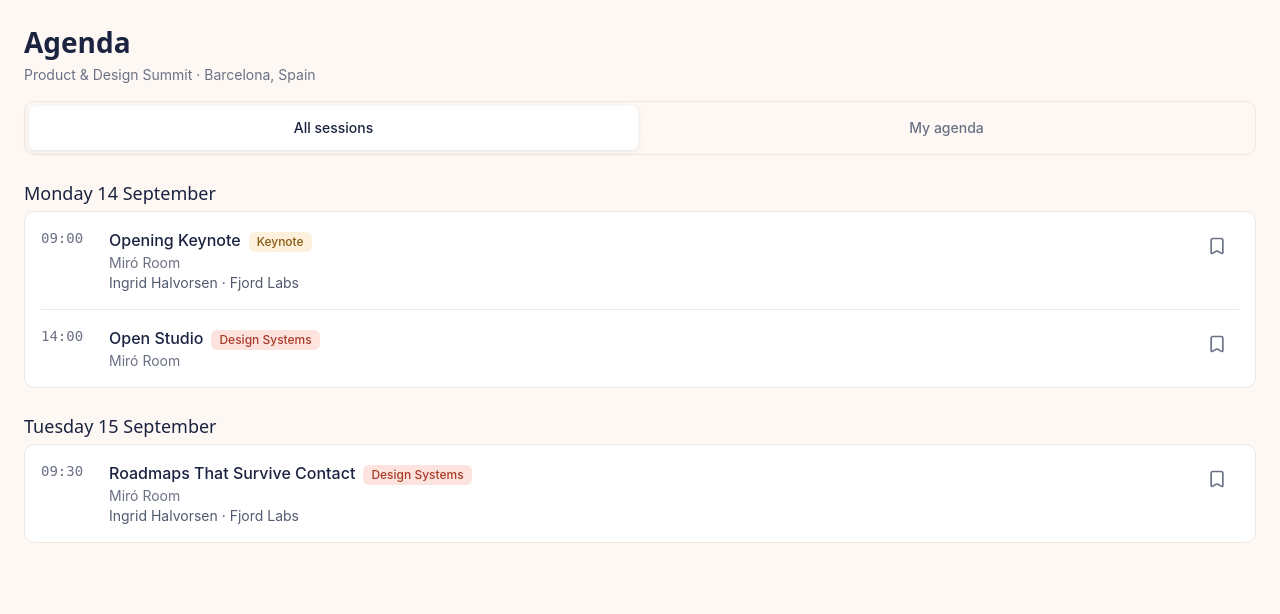
Test: a failed note write › LEAVES THE TEXT ON SCREEN (FR-211)
Click the link "Opening Keynote" at (175, 240), box [109,230,241,250]
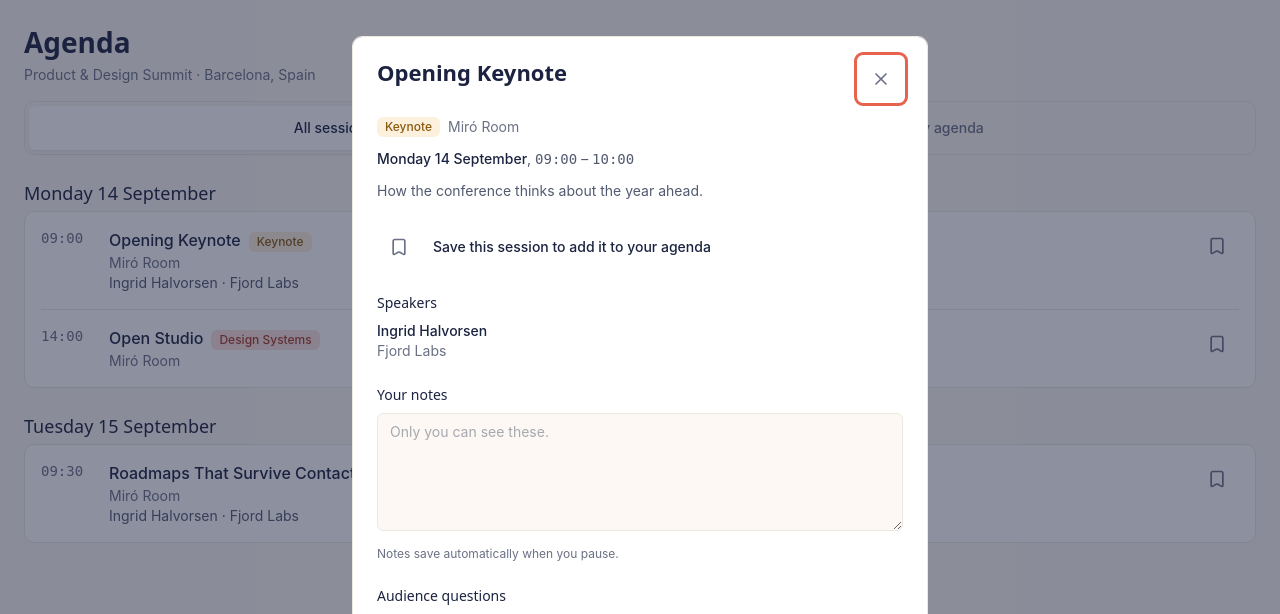
Now the heading "Opening Keynote" is shown, box [377,57,567,88]
Type "Something worth keeping." into the text box named "private notes" at (640, 472), box [377,413,903,531]
Wait 1300 ms
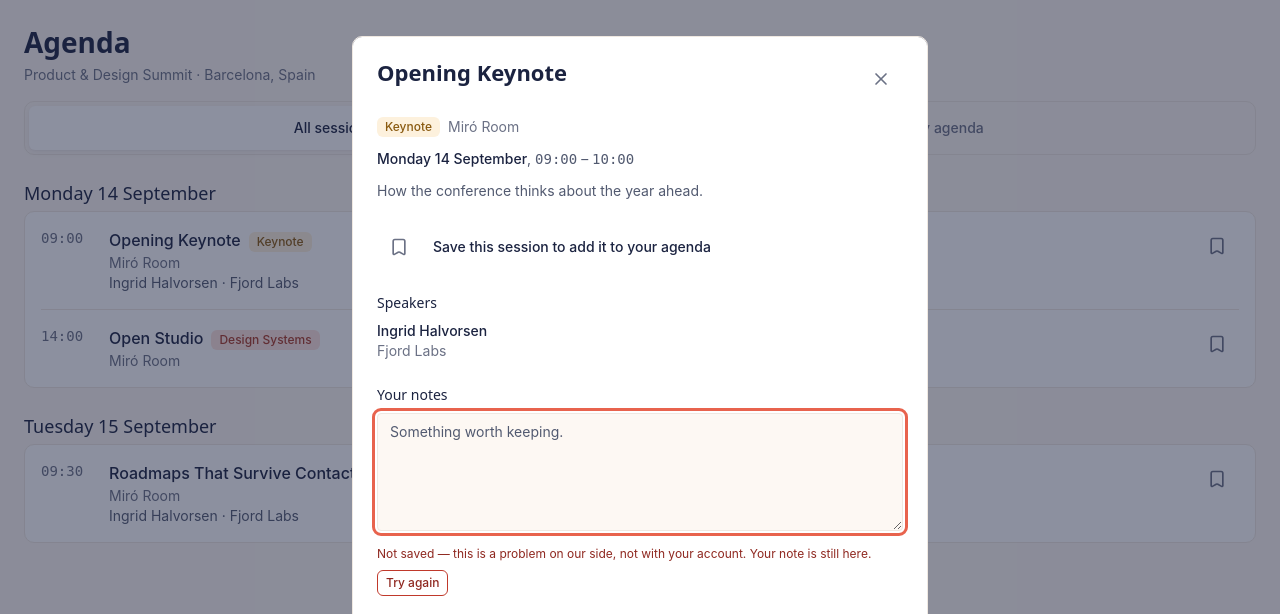
Now the message is shown, box [377,546,903,596]
